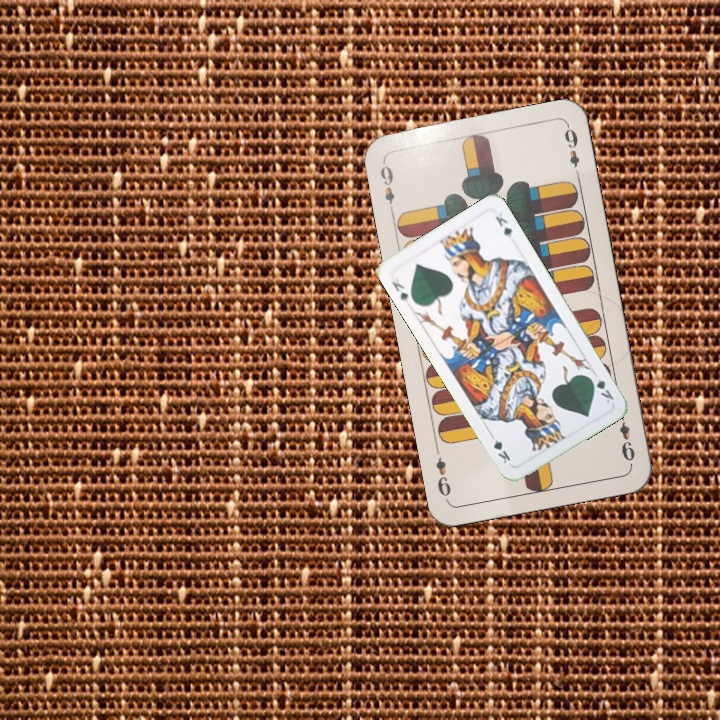E9: (615, 408, 638, 467), (376, 157, 398, 216)
GK: (585, 372, 616, 406), (388, 274, 412, 306)
